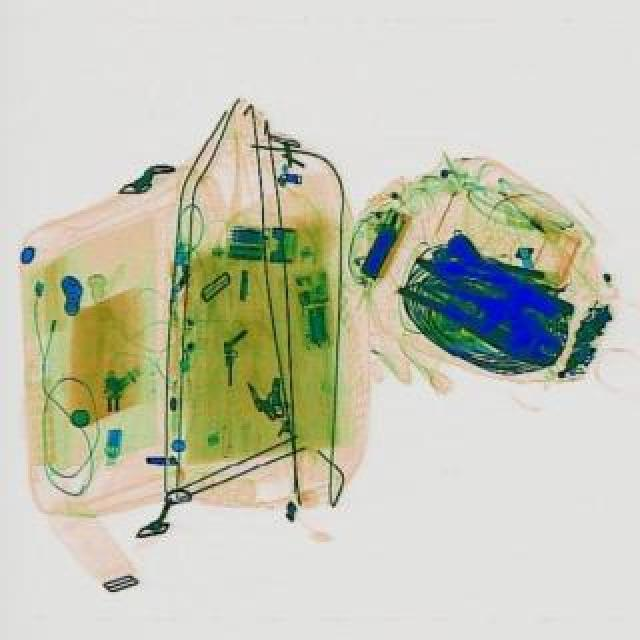wrench: (390, 246, 574, 374)
